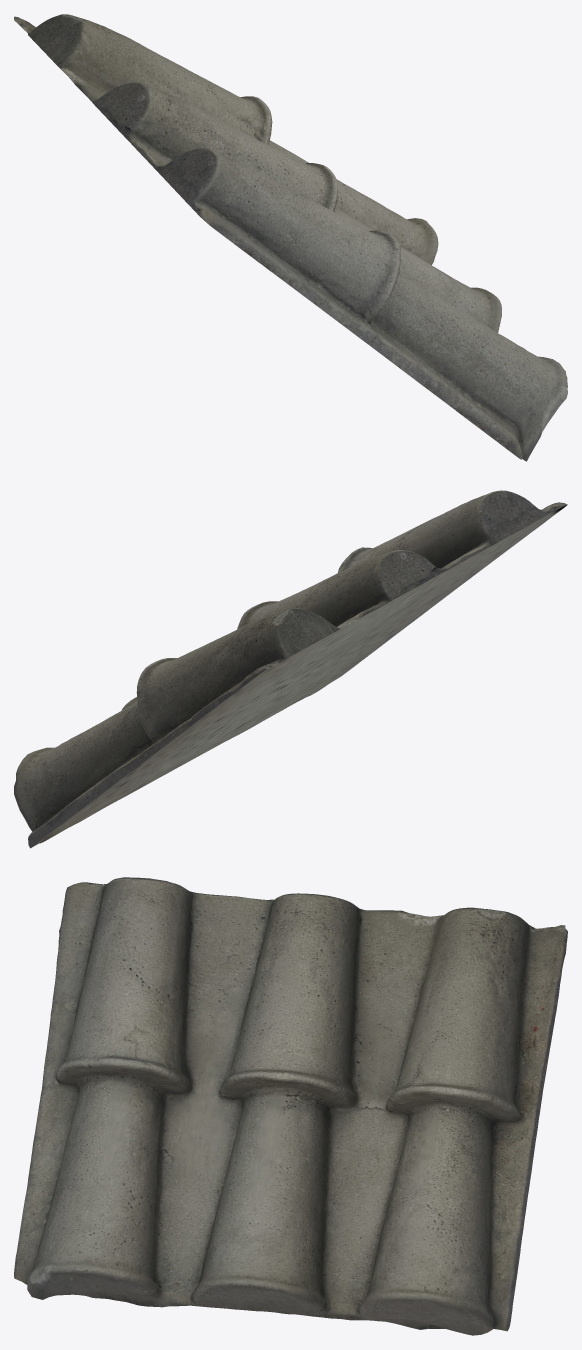
File: Retopo_3DModel_mesh.121.glb
3 views of the same model, one above another, from view 1: azimuth 30°, elevation 25°; view 2: azimuth 150°, elevation 25°; view 3: azimuth 270°, elevation 25° (orthographic). The views are drawn at different scales.
Parts seen in each view (by area): view 1: Retopo_3DModel_mesh.121; view 2: Retopo_3DModel_mesh.121; view 3: Retopo_3DModel_mesh.121.
Boxes of the visible parts, x1=… form: Retopo_3DModel_mesh.121: x1=14, y1=14, x2=567, y2=461; Retopo_3DModel_mesh.121: x1=14, y1=490, x2=567, y2=848; Retopo_3DModel_mesh.121: x1=14, y1=877, x2=567, y2=1335.
Bounding box in the file's own units: 3.65 × 2.81 × 4.53.
1 material, 1 textured.
